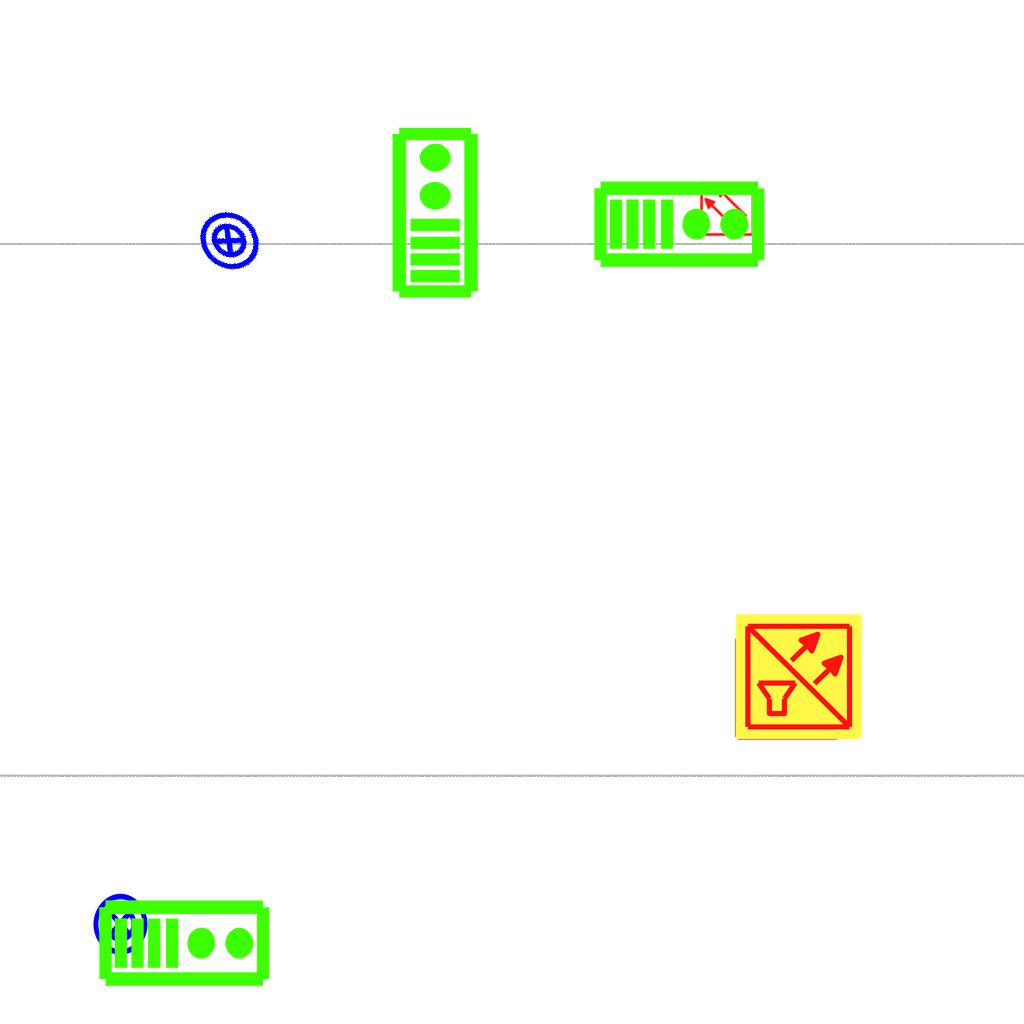Gegensprechanlage_mit_Video: (386, 124, 481, 300), (592, 175, 768, 270), (97, 894, 273, 989)
OKW_Multisensormelder_(Kombination_optischer_Rauch-Kahlenmonoxid_Waerme-Melder): (733, 611, 865, 743)
RMO_Rauchmelder_optischer: (699, 181, 755, 237)
Taster_beleuchtet: (182, 194, 276, 288), (87, 891, 153, 957)
